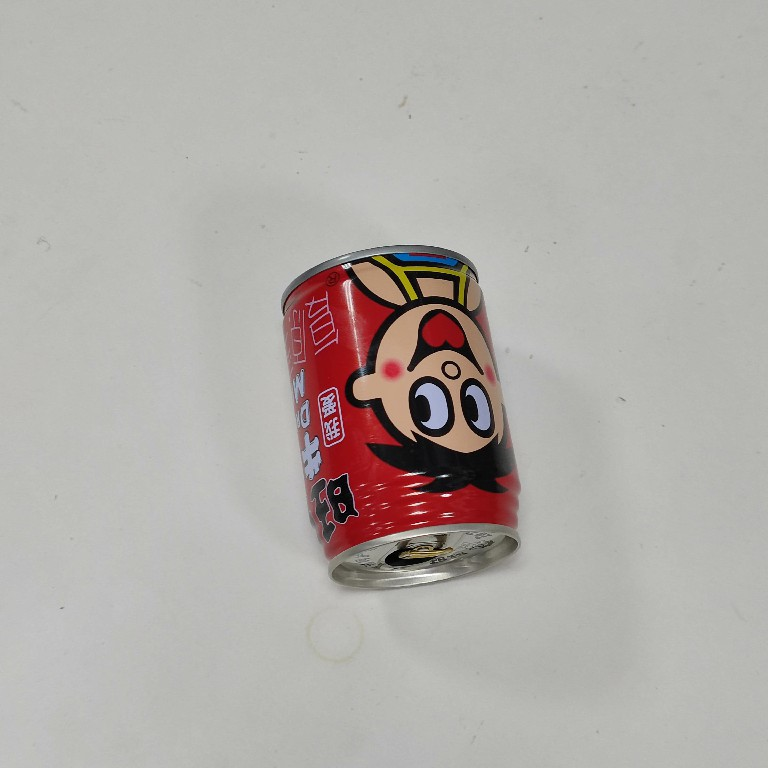can: (276, 242, 527, 593)
